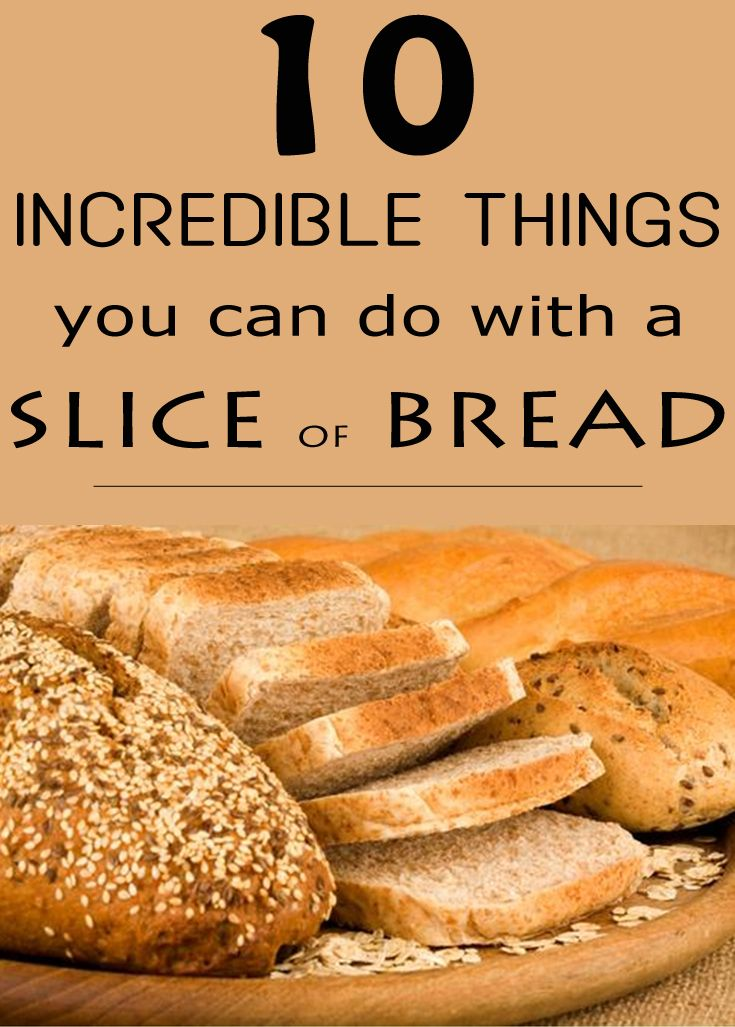slice of bread: (249, 652, 632, 923)
